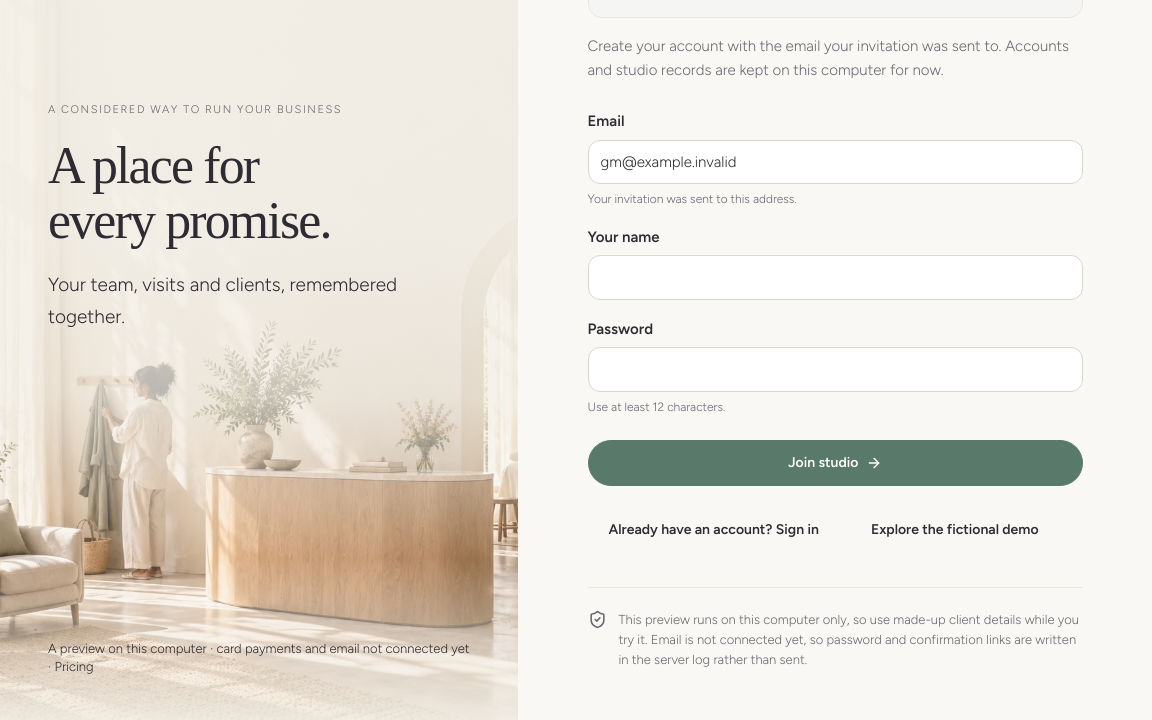
it: the join page names the studio, the role and its location, and fills in the invited email
This screenshot has width=1152, height=720.
(page scrolled)
Expected: the field labelled "Email Your invitation was sent to this address." holds "gm@example.invalid", x1=588 y1=140 x2=1083 y2=184
Expected: the text "Your invitation was sent to this address." is shown, x1=588 y1=192 x2=797 y2=206
Signing in instead keeps the invitation in view.
What coordinates should you click on to do the following:
click the button "Already have an account? Sign in"
I would click on:
 (714, 530)
Its box is x1=588 y1=508 x2=840 y2=552.
(page scrolled)
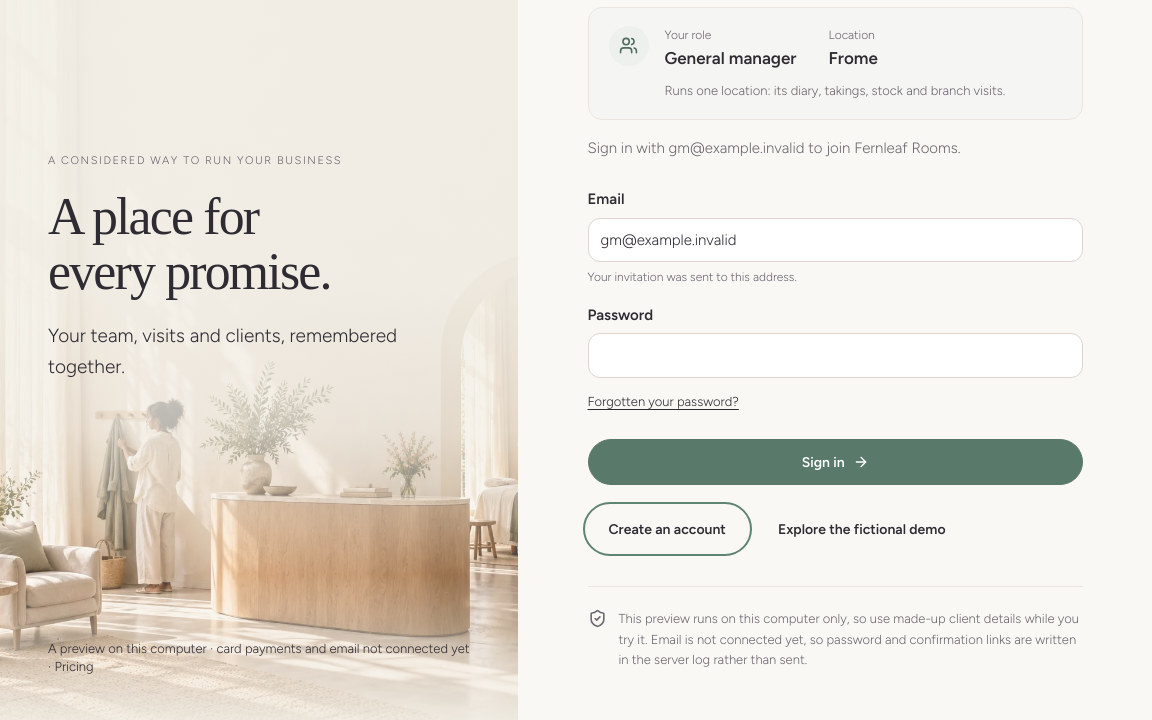
Expected: the field labelled "Email Your invitation was sent to this address." holds "gm@example.invalid", x1=588 y1=218 x2=1083 y2=262
Now the text "Sign in with gm@example.invalid to join Fernleaf Rooms." is shown, box x1=588 y1=139 x2=960 y2=157
